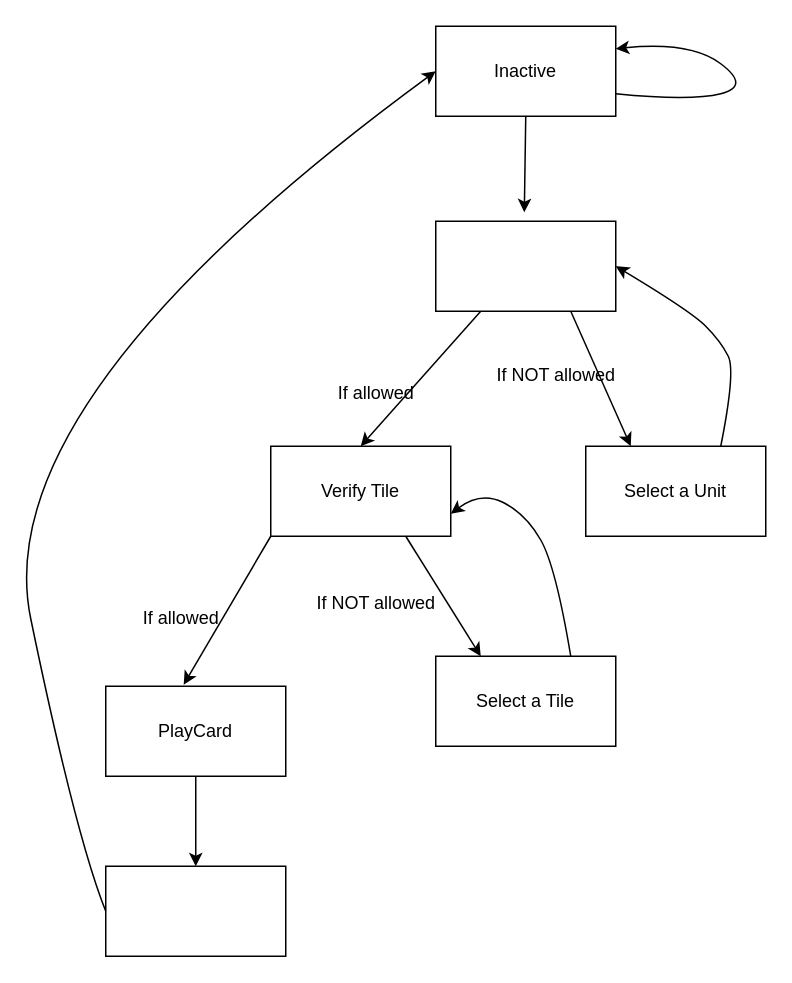
This 792x983 diagram has some shape labels left out. The shapes that lost their labels are listed below. From the top down, each one's box as (x1, y1, x2, y2) in pixels, then its label:
(434, 220, 616, 311): Verify Unit
(104, 865, 286, 956): Card is done, let cardmanager know the card can be discarded
